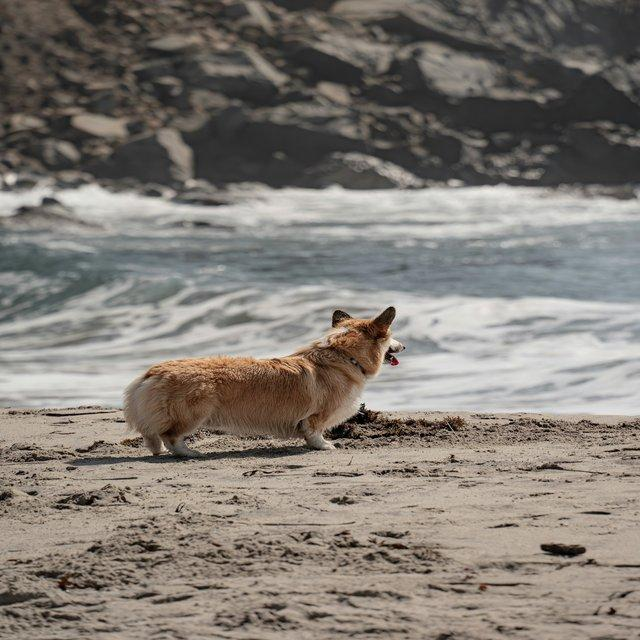corgi: (121, 304, 405, 458)
